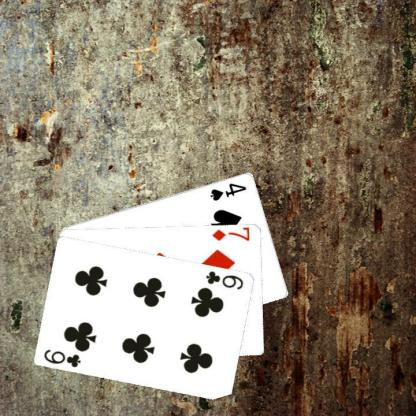4S: (208, 180, 248, 202)
6C: (204, 268, 245, 291), (42, 346, 82, 368)
7D: (210, 227, 251, 242)
